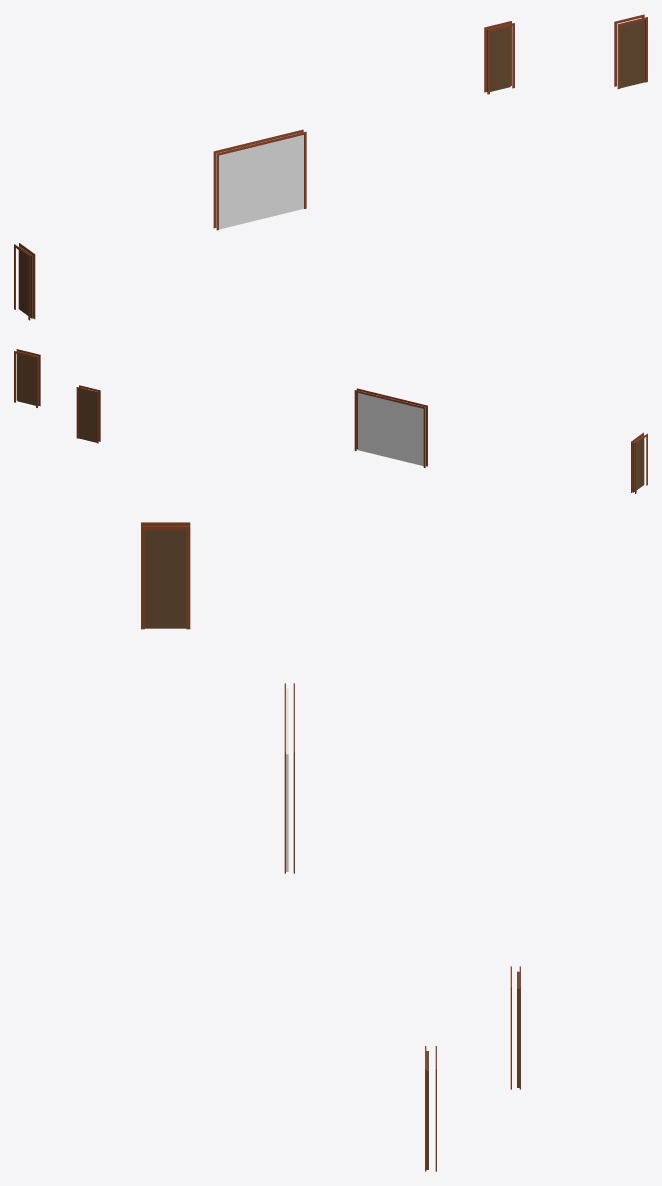
File: PROJETO BIM 12 ANDARES_T_rreo_IfcDoor.dae
The picture shows the model from 3 angles, top to bottom: view 1: azimuth 30°, elevation 25°; view 2: azimuth 150°, elevation 25°; view 3: azimuth 270°, elevation 25°; orthographic projection. The views are drawn at different scales.
Parts seen in each view (by area): view 1: 2TDv5uYH99FRfbJuKAHzU9, 2I4hdQGnHAxgmSRvl3NOCE, 21dPFGigL2Mxi$rUJVg1X9, 21dPFGigL2Mxi$rUJVg1XK; view 2: 2TDv5uYH99FRfbJuKAHzU9, 2I4hdQGnHAxgmSRvl3NOCE, 21dPFGigL2Mxi$rUJVg1X9, 21dPFGigL2Mxi$rUJVg1XK; view 3: 21dPFGigL2Mxi$rUJVg1XK, 2TDv5uYH99FRfbJuKAHzU9.
Part boxes in pixels (box(x1,y1,x2,y2)): 2TDv5uYH99FRfbJuKAHzU9: box(213, 129, 306, 230); 2I4hdQGnHAxgmSRvl3NOCE: box(614, 14, 647, 89); 21dPFGigL2Mxi$rUJVg1X9: box(484, 21, 514, 94); 21dPFGigL2Mxi$rUJVg1XK: box(14, 243, 35, 320); 2TDv5uYH99FRfbJuKAHzU9: box(354, 388, 427, 467); 2I4hdQGnHAxgmSRvl3NOCE: box(14, 349, 40, 407); 21dPFGigL2Mxi$rUJVg1X9: box(76, 385, 100, 443); 21dPFGigL2Mxi$rUJVg1XK: box(631, 432, 647, 493); 21dPFGigL2Mxi$rUJVg1XK: box(141, 522, 190, 629); 2TDv5uYH99FRfbJuKAHzU9: box(284, 683, 294, 873).
Size of the model in its own units: 24.88 by 7.31 by 2.58.
